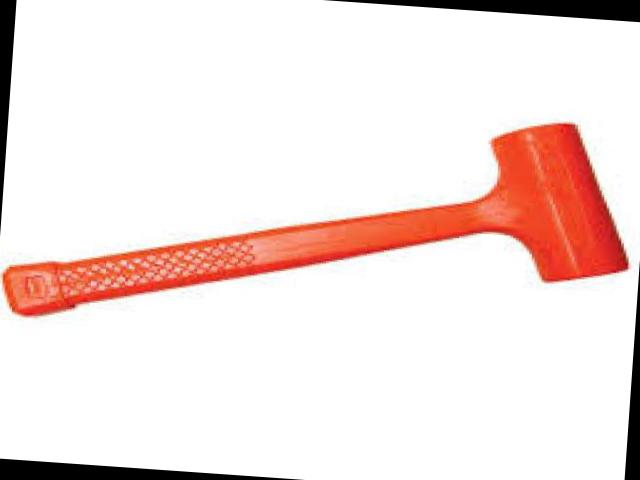hammer: (0, 85, 640, 359)
